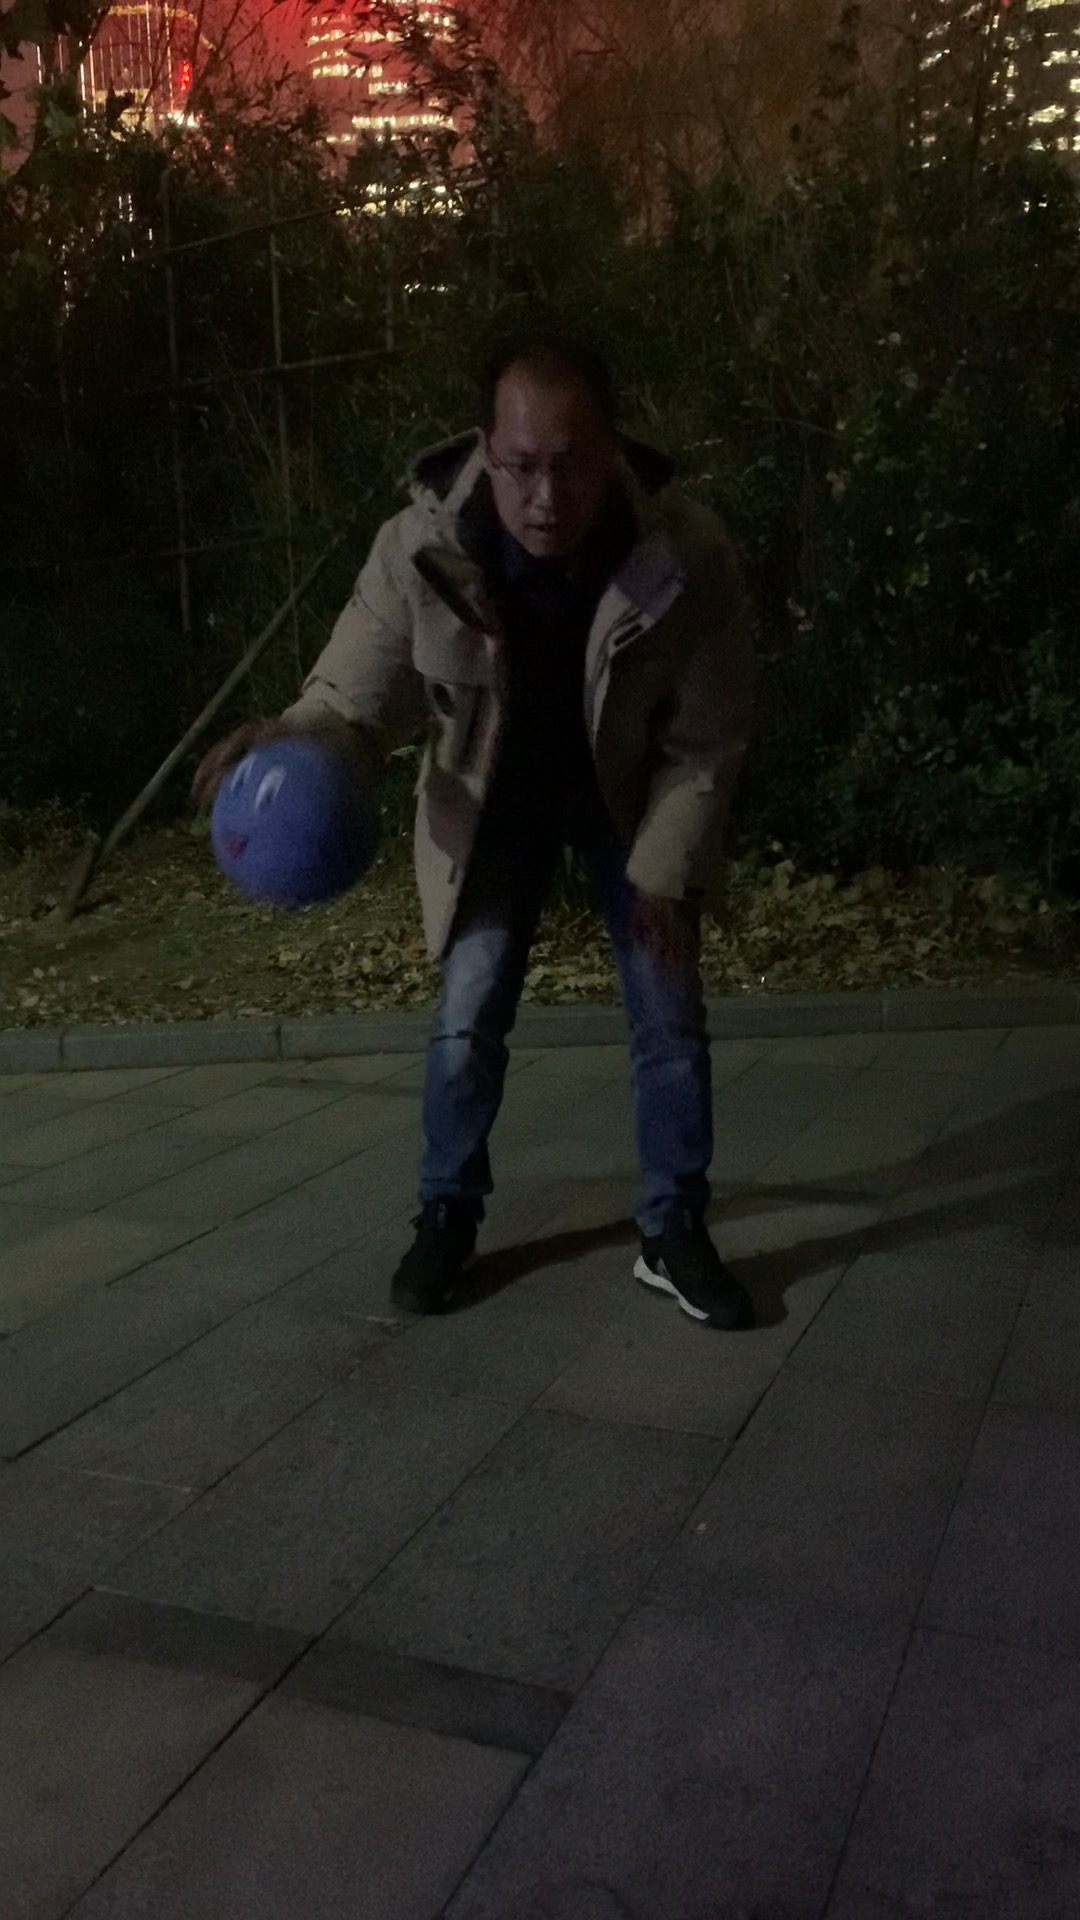ball: (208, 737, 375, 914)
